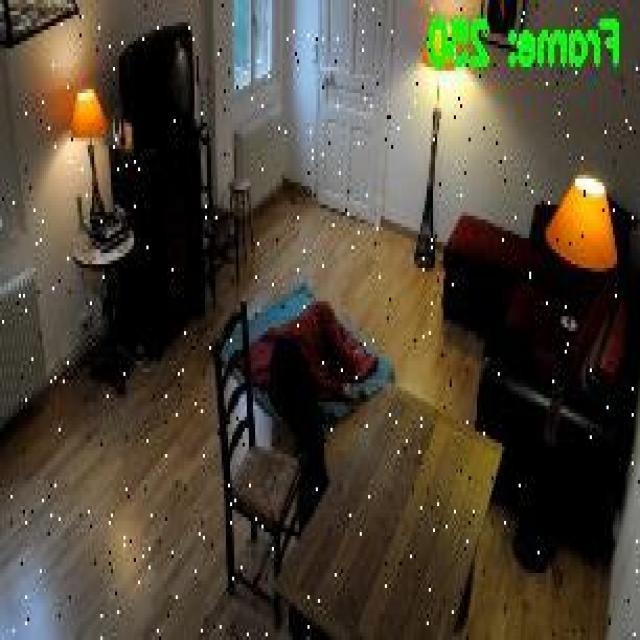fall: (263, 296, 362, 552)
